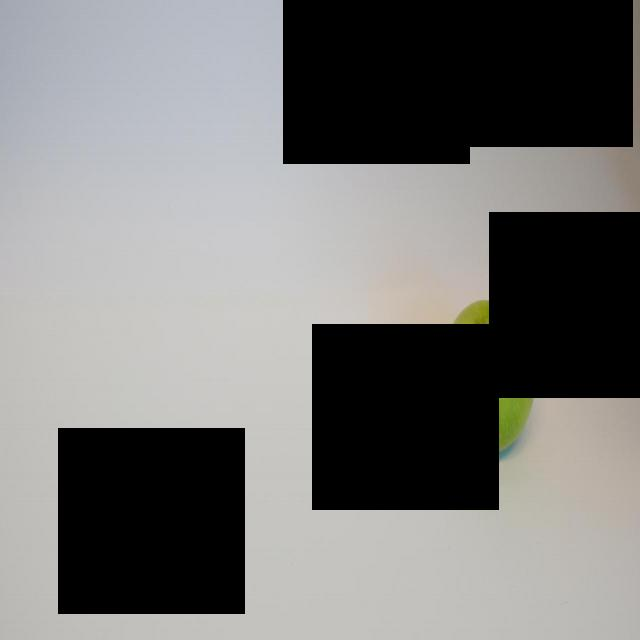apple: (445, 291, 543, 449)
